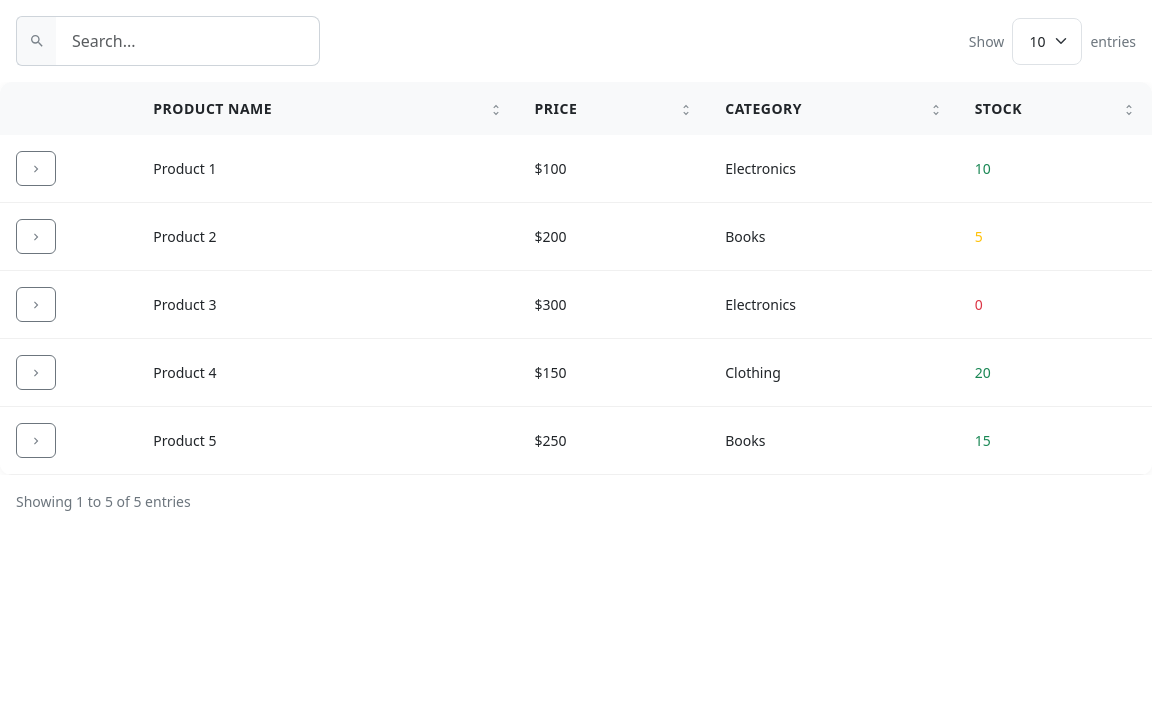
Test case: DataTable Component › Row Expansion › should collapse expanded row when clicked again
What coordinates should you click on to do the following:
click the button without text next to "Product 1"
I would click on:
 (36, 168)
Its box is [16, 151, 56, 186].
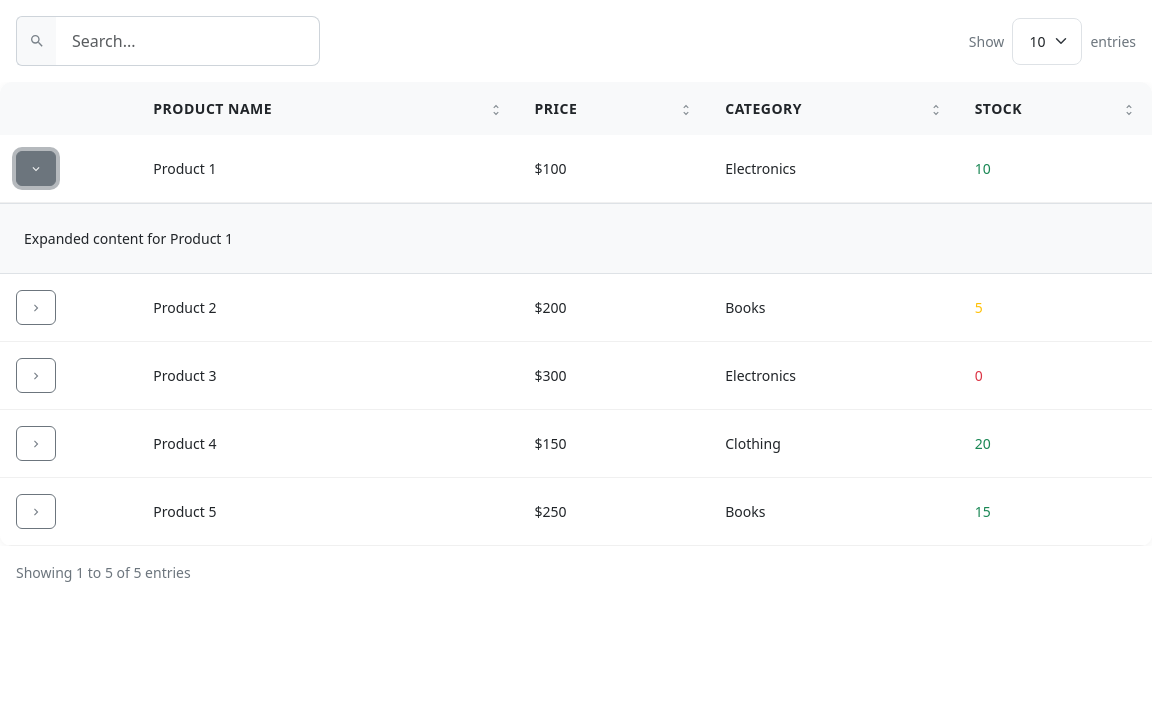
Check: the text "Expanded content for Product 1" is shown, box [24, 229, 233, 248]
What coordinates should you click on to do the following:
click the button without text in the row of "$100"
I would click on:
 (36, 168)
Its box is [16, 151, 56, 186].
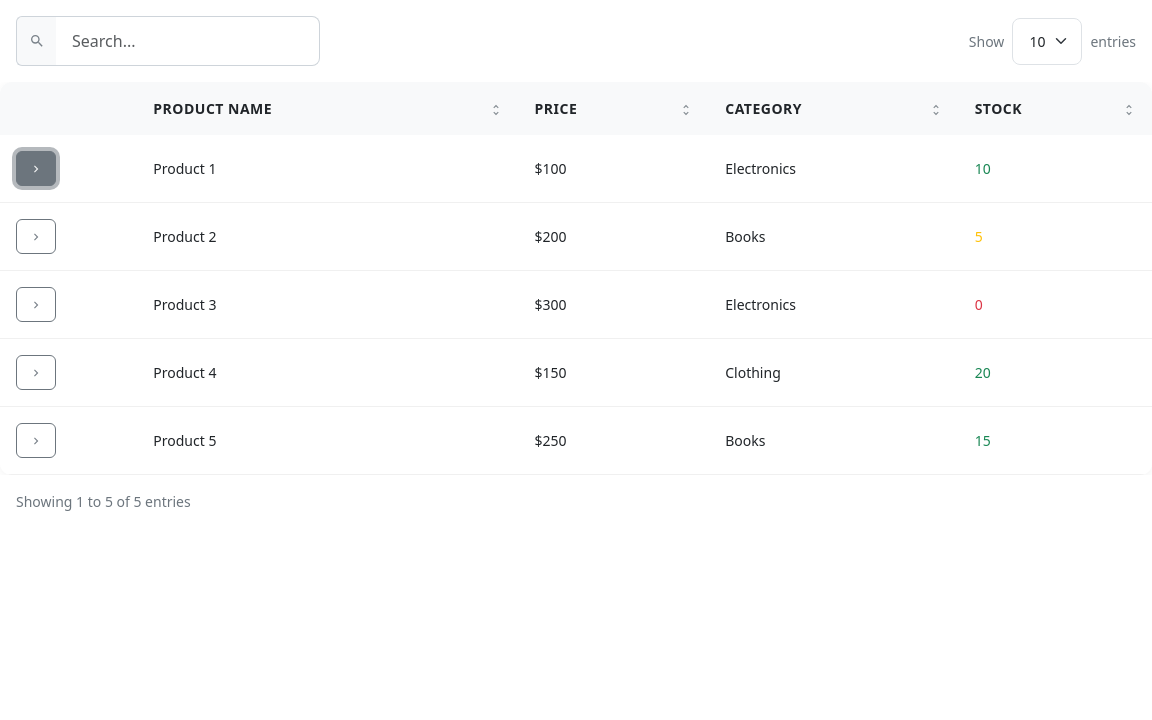
Check: the text "Expanded content for Product 1" is gone
